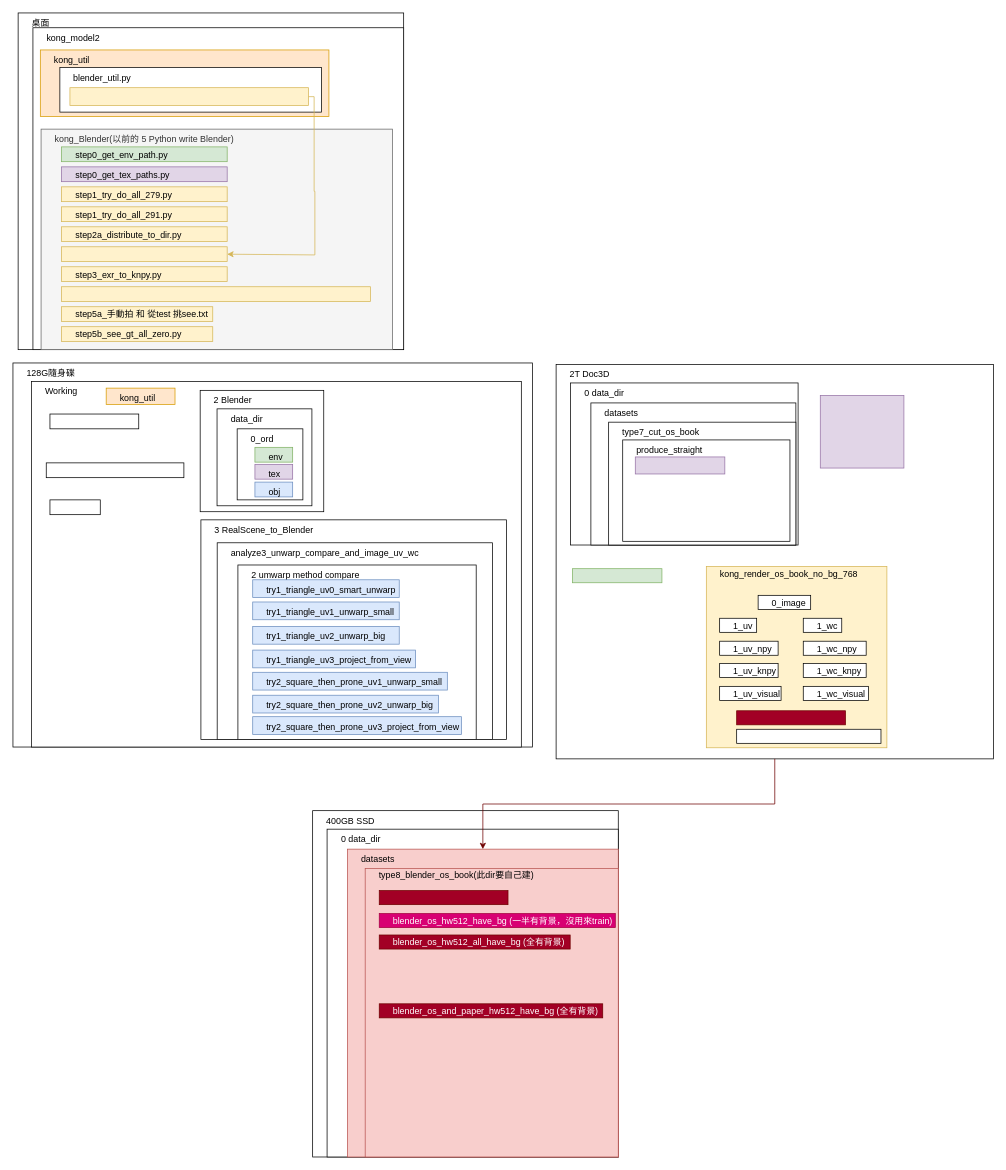
Some shapes in this 1006 by 1170 pixel diagram are drawn without their labels. The shapes that lost their labels are listed below. From the top down, each one's centre as x and y in pixels, then its label:
(189,96): get_dir_blends_and_extract_texture_image_file_name()
(144,254): step2b_temp_grab_img_ord.py
(215,294): step4_去主程式跑step5_來分train_in_gt、test_in_gt和hope_train_test.txt
(94,421): 1 RealScene
(862,431): 7 自己拍的
(115,470): 4 Analyze_forward_backward
(680,465): 01_page_num_ok
(74,507): 6 Detail
(617,575): dtd
(790,717): type8_blender_os_book
(808,736): try_do_all_291.py code複製一份
(443,897): blender_os_hw768 (無背景)
